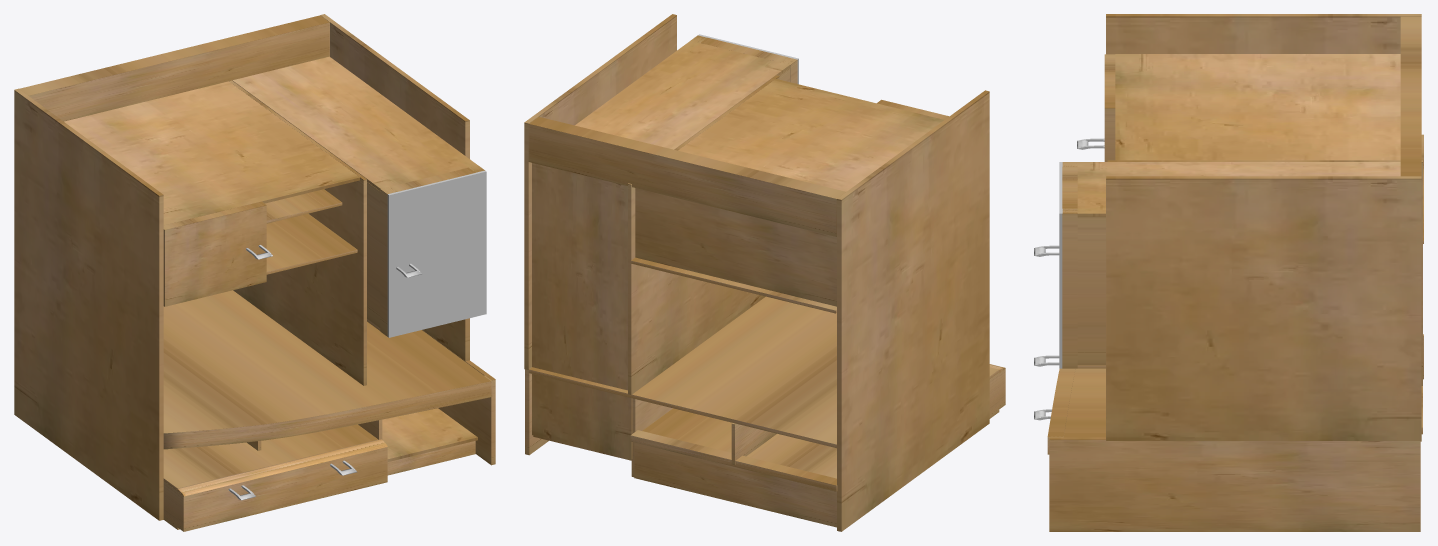
The model's file is sh-contrib-meuble-hi-fi-haut.glb.
The picture shows the model from 3 angles, left to right: view 1: azimuth 30°, elevation 25°; view 2: azimuth 150°, elevation 25°; view 3: azimuth 270°, elevation 25°; orthographic projection. The views are drawn at different scales.
Visible parts, largest first — view 1: Cube_1_1, Cube_9_14, pOIGNEE_24; view 2: Cube_1_1; view 3: Cube_1_1, pOIGNEE_24, Cube_9_14.
Boxes of the visible parts, x1,y1,x2,y2 form: Cube_1_1: (14,14,495,531); Cube_9_14: (387,170,486,337); pOIGNEE_24: (228,245,421,500); Cube_1_1: (524,14,1005,531); Cube_1_1: (1047,14,1423,531); pOIGNEE_24: (1034,138,1104,420); Cube_9_14: (1059,162,1062,368).
Bounding box in the file's own units: 1 × 1 × 1.
Materials: 3 (2 with a texture image).
